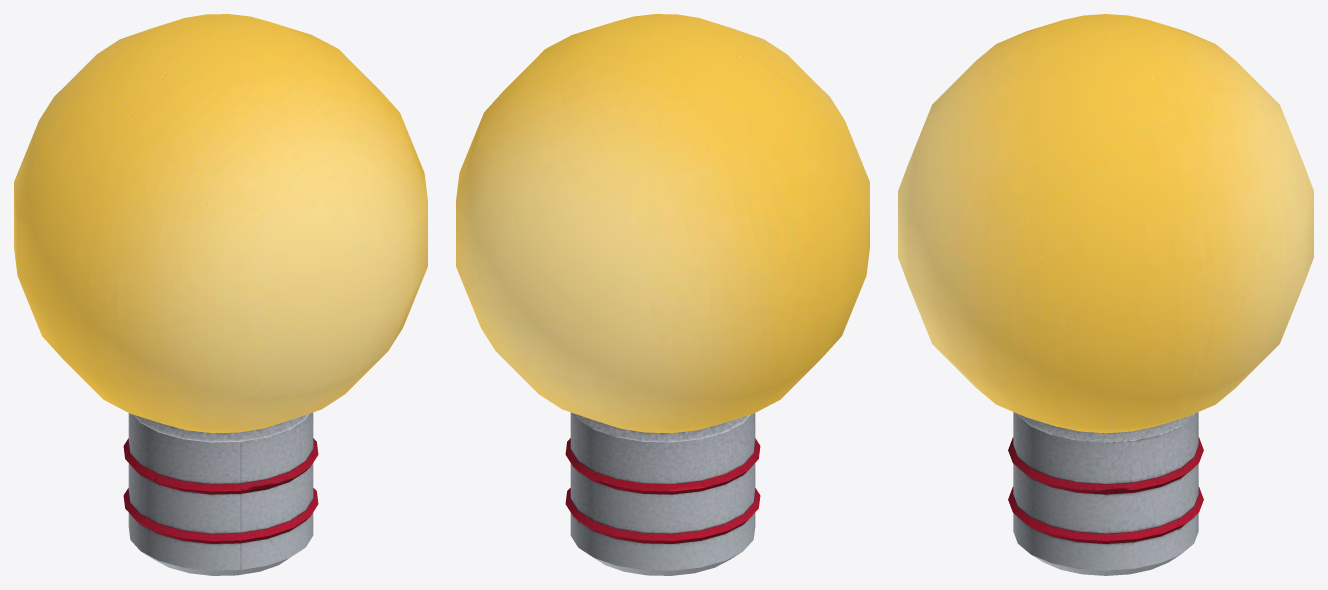
The picture shows the model from 3 angles, left to right: view 1: azimuth 30°, elevation 25°; view 2: azimuth 150°, elevation 25°; view 3: azimuth 270°, elevation 25°; orthographic projection.
Visible parts, largest first — view 1: glow_Warm_golden_glass, Polished_chrome_socket, Ruby_lacquer_rings; view 2: glow_Warm_golden_glass, Polished_chrome_socket, Ruby_lacquer_rings; view 3: glow_Warm_golden_glass, Polished_chrome_socket, Ruby_lacquer_rings.
Part boxes in pixels (x1,y1,x2,y2): glow_Warm_golden_glass: (14,14,427,433); Polished_chrome_socket: (128,412,313,575); Ruby_lacquer_rings: (123,438,318,543); glow_Warm_golden_glass: (456,14,869,433); Polished_chrome_socket: (570,412,755,575); Ruby_lacquer_rings: (565,438,760,543); glow_Warm_golden_glass: (898,14,1313,433); Polished_chrome_socket: (1013,412,1198,575); Ruby_lacquer_rings: (1008,437,1203,543).
Size of the model in its own units: 0.7091 by 0.96 by 0.7091.
Materials: 3 (3 with a texture image).
